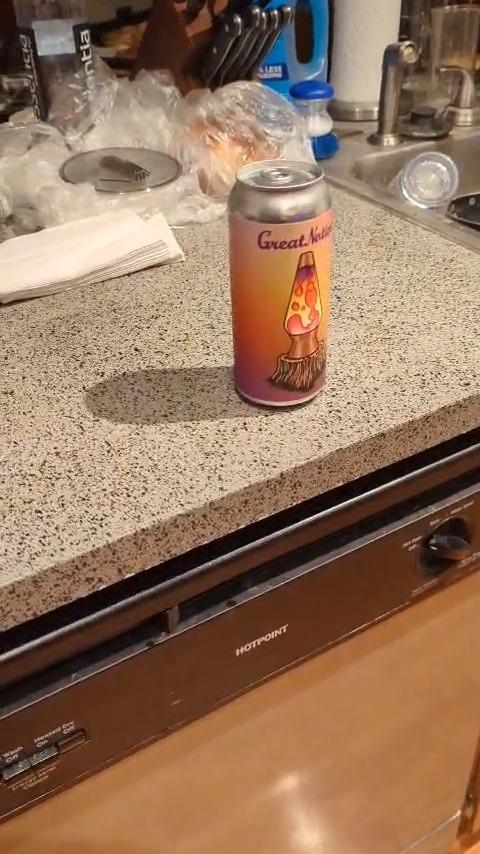metal: (228, 159, 333, 406)
